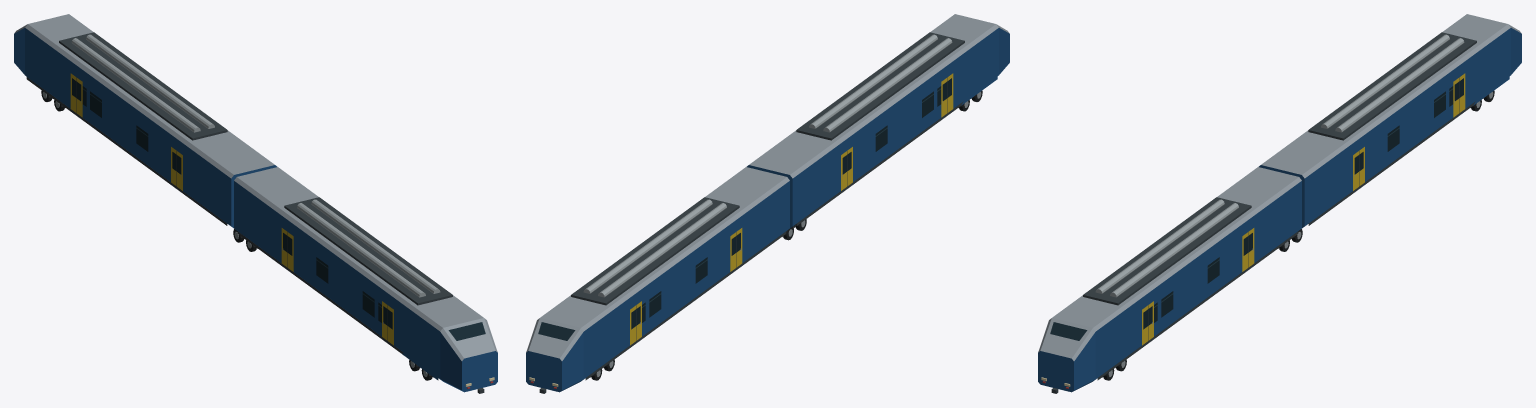
The model's file is neb-mireo-h.glb.
3 views of the same model, side by side, from view 1: azimuth 30°, elevation 25°; view 2: azimuth 150°, elevation 25°; view 3: azimuth 330°, elevation 25° (orthographic).
Visible parts, largest first — view 1: neb-mireo-h.segment-01.005, neb-mireo-h.segment-02.005; view 2: neb-mireo-h.segment-02.005, neb-mireo-h.segment-01.005; view 3: neb-mireo-h.segment-01.005, neb-mireo-h.segment-02.005.
Part boxes in pixels (left/top/right/bottom): neb-mireo-h.segment-01.005: left=233, top=167, right=497, bottom=393; neb-mireo-h.segment-02.005: left=14, top=14, right=277, bottom=228; neb-mireo-h.segment-02.005: left=526, top=167, right=789, bottom=393; neb-mireo-h.segment-01.005: left=746, top=14, right=1009, bottom=240; neb-mireo-h.segment-01.005: left=1038, top=167, right=1302, bottom=393; neb-mireo-h.segment-02.005: left=1258, top=14, right=1521, bottom=228.
Size of the model in its own units: 2.86 by 4.15 by 47.
